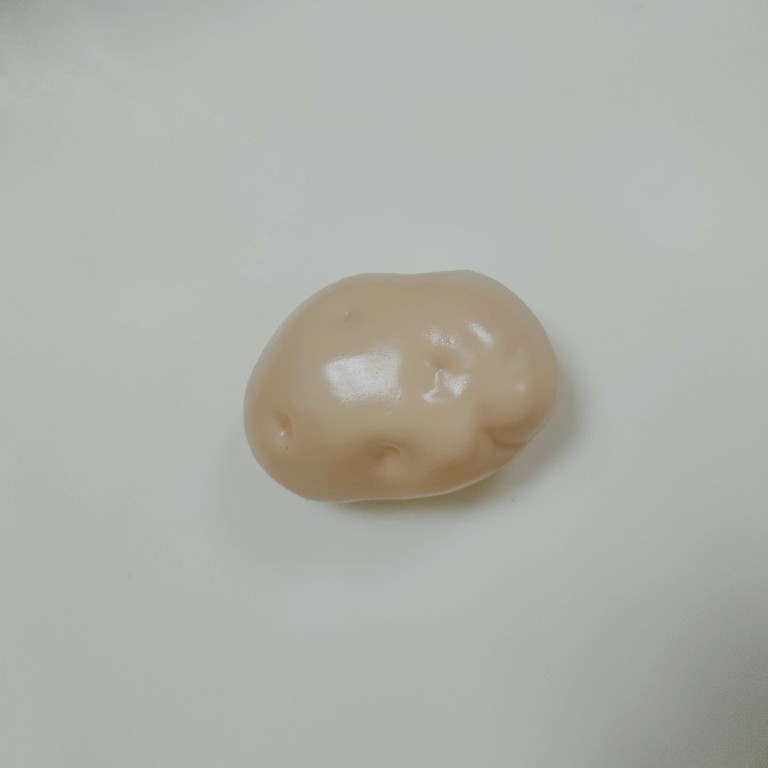fruit_potato: (232, 266, 566, 510)
